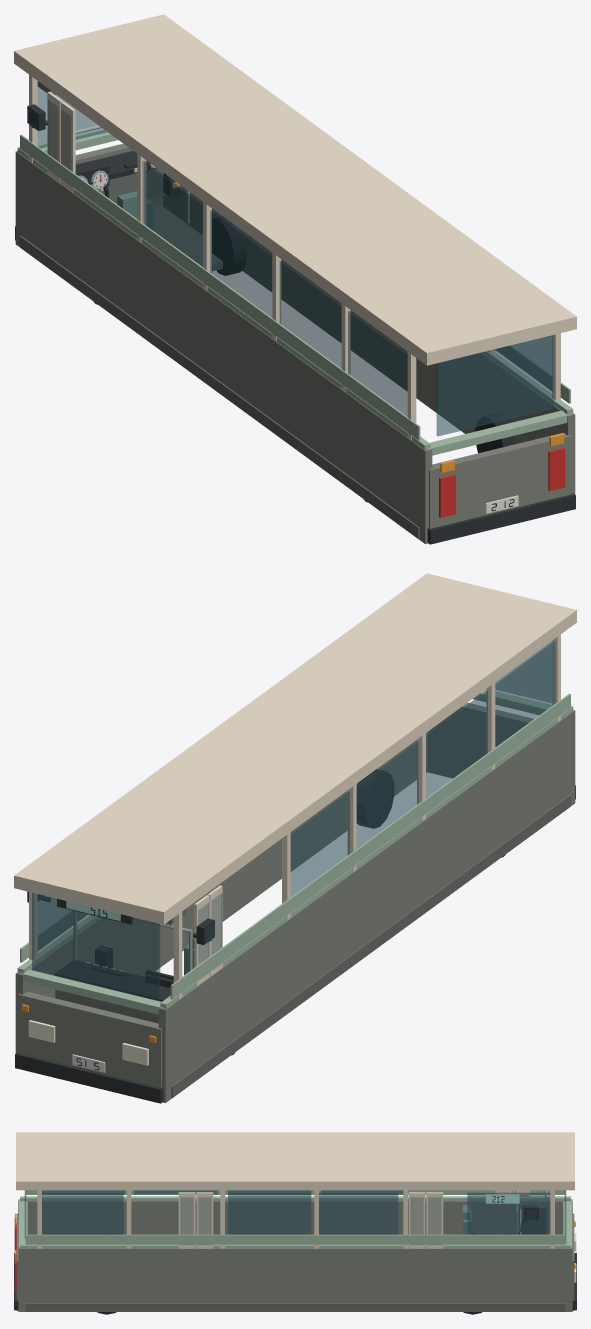
File: bus_almaty_212_sand.glb
3 renders of one model, top to bottom at view 1: azimuth 30°, elevation 25°; view 2: azimuth 150°, elevation 25°; view 3: azimuth 270°, elevation 25°, orthographic. The views are drawn at different scales.
Visible parts, largest first — view 1: body_roof, body_lower_left, body_lower_right, window_rear, body_rear_lower, livery_side_window_band_left, livery_side_sill_left, window_side_left_2, window_side_left_1, window_side_left_3, window_side_left_0, bumper_rear (+17 smaller); view 2: body_roof, body_lower_left, body_lower_right, window_windshield, body_front_lower, livery_side_window_band_left, livery_side_sill_left, body_rear_lower, window_side_left_2, window_side_left_1, window_side_left_0, window_side_left_3 (+15 smaller); view 3: body_roof, body_lower_right, body_lower_left, livery_side_window_band_right, livery_side_sill_right, window_side_right_1, window_side_right_0, window_side_right_2, window_side_right_3, belt_left, belt_right, livery_side_window_band_left (+24 smaller).
Boxes of the visible parts, x1,y1,x2,y2 form: body_roof: (14, 14, 576, 365); body_lower_left: (15, 151, 432, 543); body_lower_right: (163, 187, 575, 494); window_rear: (436, 335, 552, 436); body_rear_lower: (428, 432, 572, 544); livery_side_window_band_left: (20, 134, 420, 440); livery_side_sill_left: (20, 236, 419, 538); window_side_left_2: (210, 210, 272, 317); window_side_left_1: (279, 261, 341, 368); window_side_left_3: (142, 161, 202, 266); window_side_left_0: (348, 311, 407, 416); bumper_rear: (427, 493, 575, 544); body_roof: (14, 573, 576, 924); body_lower_left: (158, 710, 575, 1102); body_lower_right: (15, 732, 427, 1053); window_windshield: (32, 892, 160, 1001); body_front_lower: (18, 991, 162, 1103); livery_side_window_band_left: (170, 693, 570, 999); livery_side_sill_left: (171, 795, 570, 1097); body_rear_lower: (428, 702, 533, 778); window_side_left_2: (356, 741, 418, 848); window_side_left_1: (426, 690, 487, 797); window_side_left_0: (495, 641, 555, 747); window_side_left_3: (290, 791, 349, 896); body_roof: (16, 1132, 574, 1190); body_lower_right: (18, 1246, 572, 1311); body_lower_left: (18, 1199, 572, 1234); livery_side_window_band_right: (25, 1234, 565, 1244); livery_side_sill_right: (25, 1303, 565, 1311); window_side_right_1: (228, 1192, 311, 1234); window_side_right_0: (42, 1192, 123, 1234); window_side_right_2: (319, 1192, 398, 1234); window_side_right_3: (467, 1192, 550, 1234); belt_left: (20, 1196, 570, 1201); belt_right: (20, 1243, 570, 1248); livery_side_window_band_left: (26, 1190, 564, 1194).
Bounding box in the file's own units: 2.97 × 3.18 × 12.
